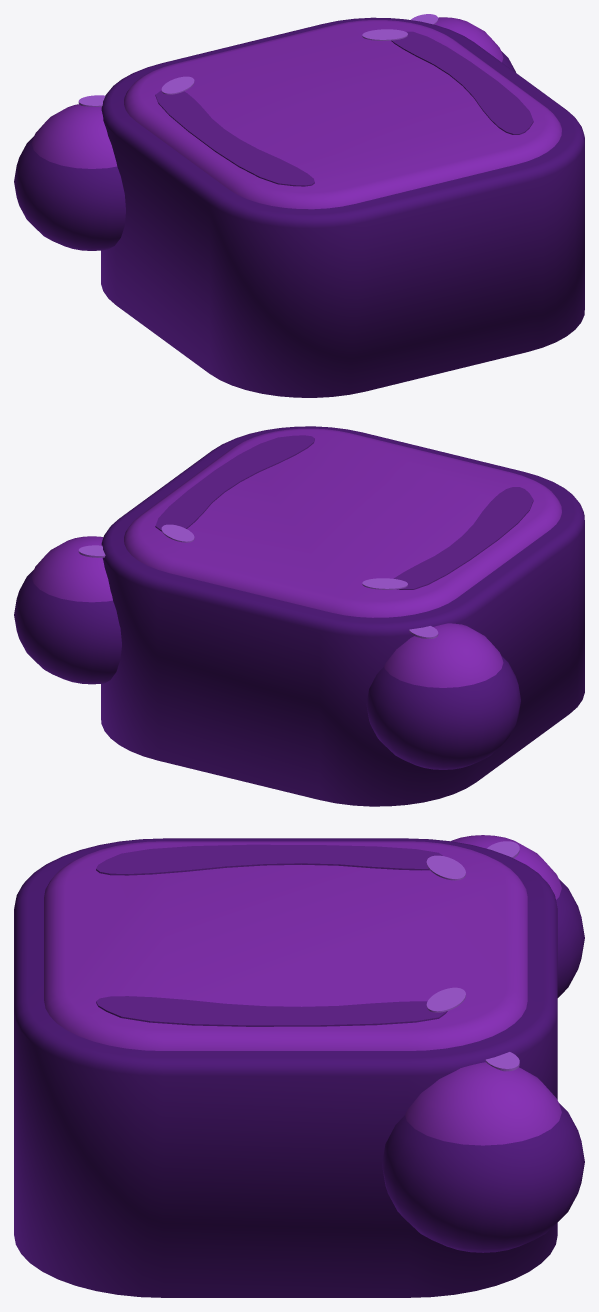
File: body_basico_roxo.fbx
3 renders of one model, top to bottom at view 1: azimuth 30°, elevation 25°; view 2: azimuth 150°, elevation 25°; view 3: azimuth 270°, elevation 25°, orthographic. The views are drawn at different scales.
Visible parts, largest first — view 1: body_basico_roxo_corpo, body_basico_roxo_mao_esq, body_basico_roxo_mao; view 2: body_basico_roxo_corpo, body_basico_roxo_mao_esq, body_basico_roxo_mao; view 3: body_basico_roxo_corpo, body_basico_roxo_mao, body_basico_roxo_mao_esq.
Part boxes in pixels (bbox=[...]): body_basico_roxo_corpo: bbox=[101, 17, 584, 397]; body_basico_roxo_mao_esq: bbox=[14, 95, 125, 250]; body_basico_roxo_mao: bbox=[411, 14, 515, 72]; body_basico_roxo_corpo: bbox=[101, 426, 584, 806]; body_basico_roxo_mao_esq: bbox=[366, 623, 520, 769]; body_basico_roxo_mao: bbox=[14, 536, 121, 684]; body_basico_roxo_corpo: bbox=[14, 838, 557, 1297]; body_basico_roxo_mao: bbox=[382, 1052, 584, 1252]; body_basico_roxo_mao_esq: bbox=[451, 835, 584, 997].
Bounding box in the file's own units: 5.4 × 2.03 × 4.2.
1 material, 1 textured.
